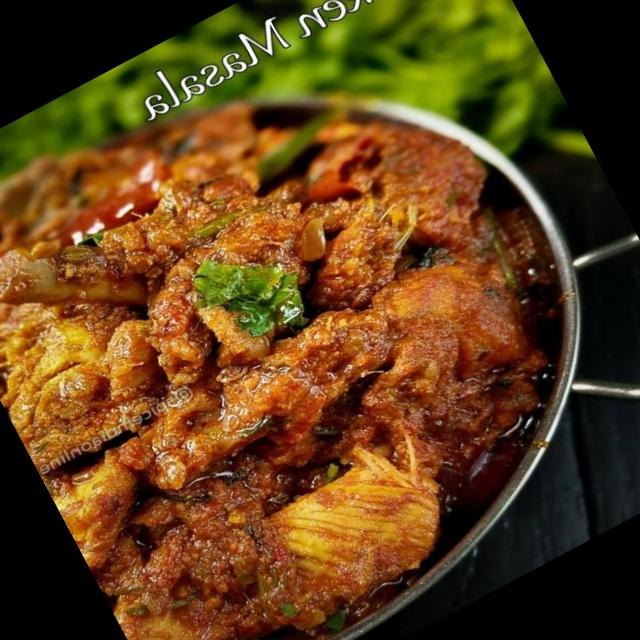chicken: (0, 33, 591, 640)
